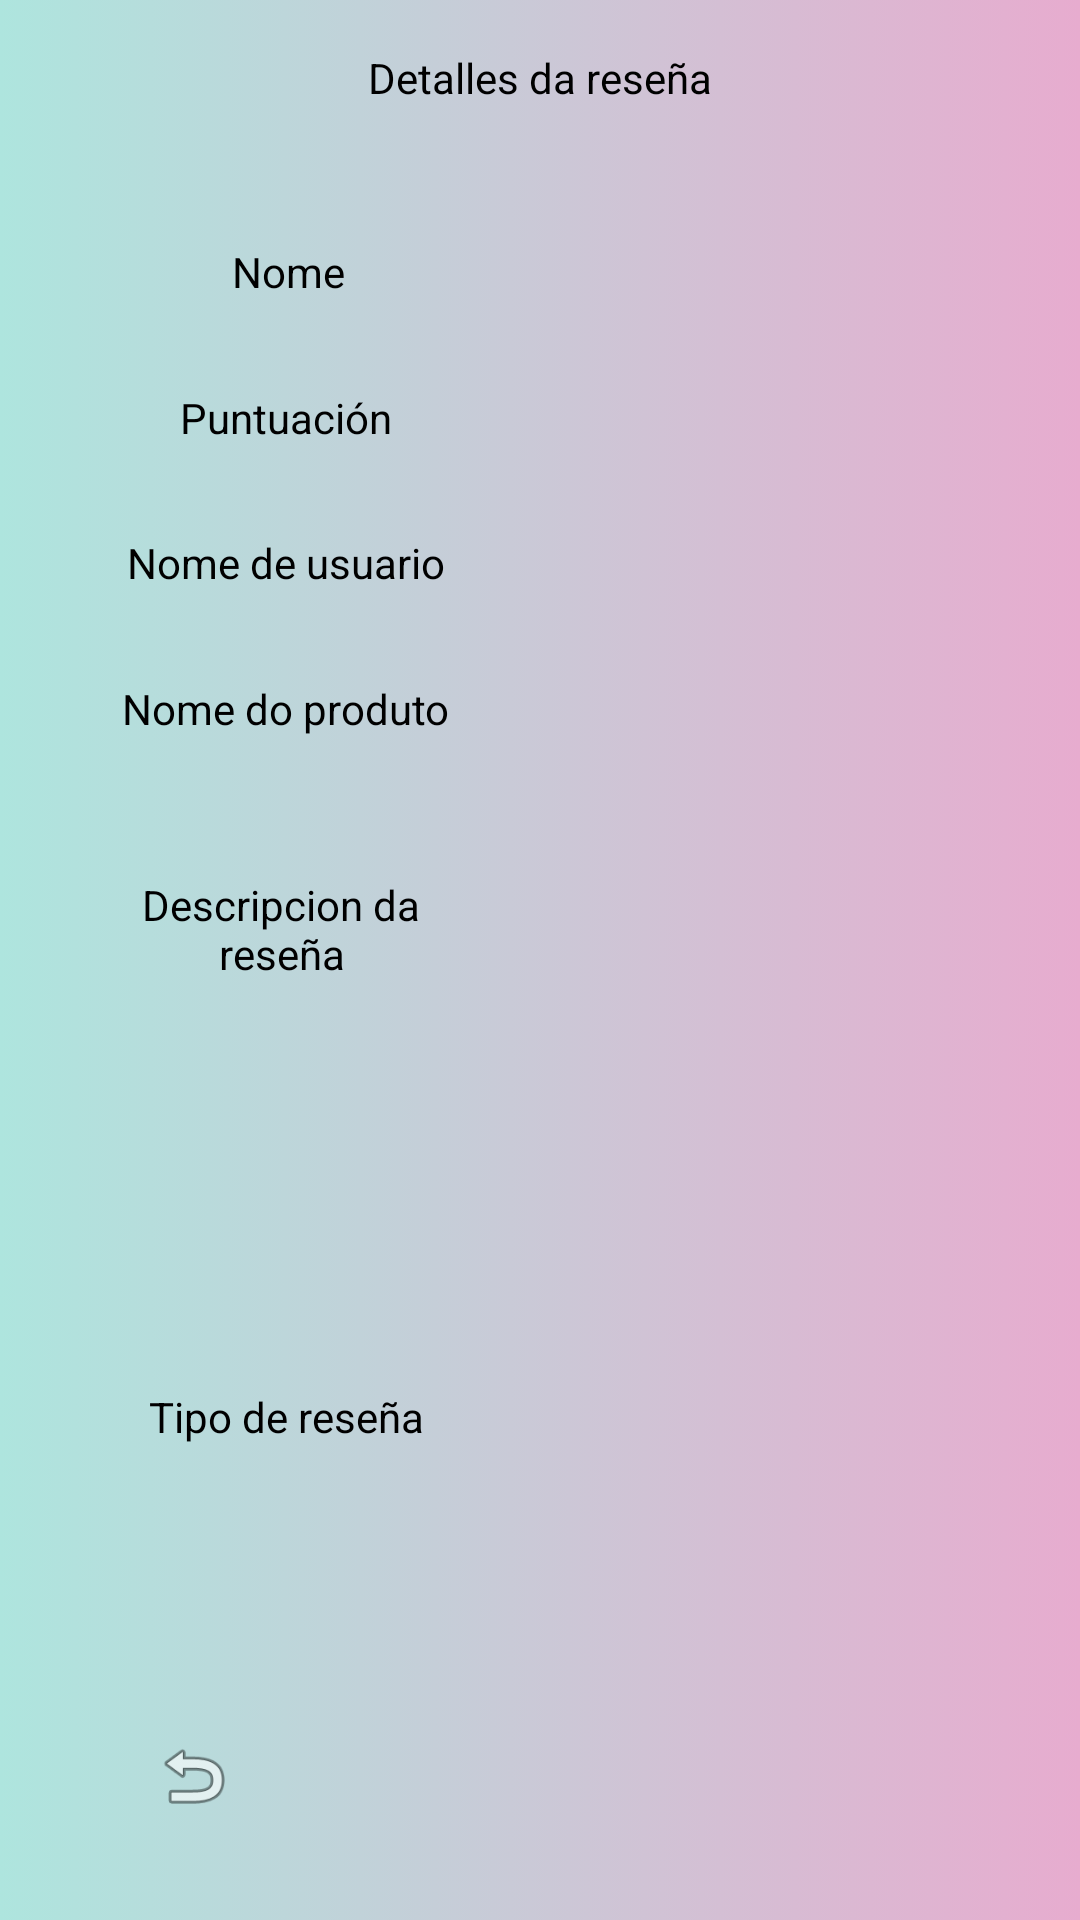

Named icons in this screenshot (1080 × 1920) and their bounding boxes, box(x1, y1, x2, y2):
revert: box(164, 1749, 225, 1804)
